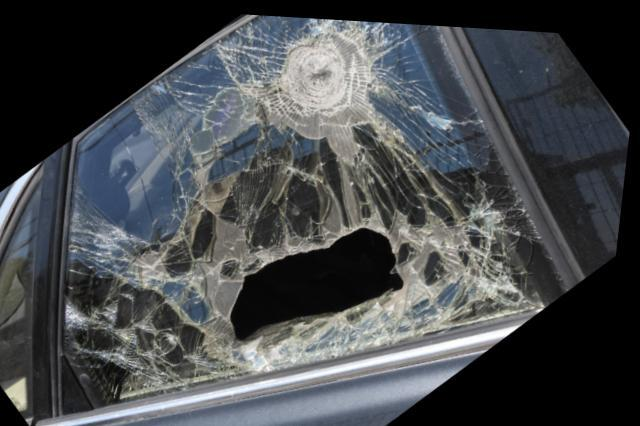glass shatter: (72, 12, 575, 403)
